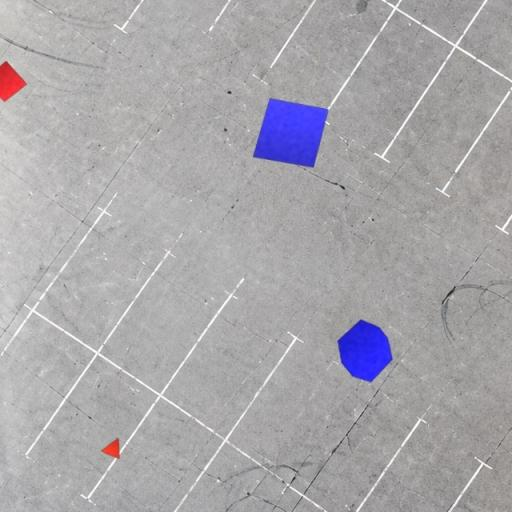BLUE_SQUARE: (252, 98, 329, 168)
RED_SQUARE: (0, 61, 27, 102)
